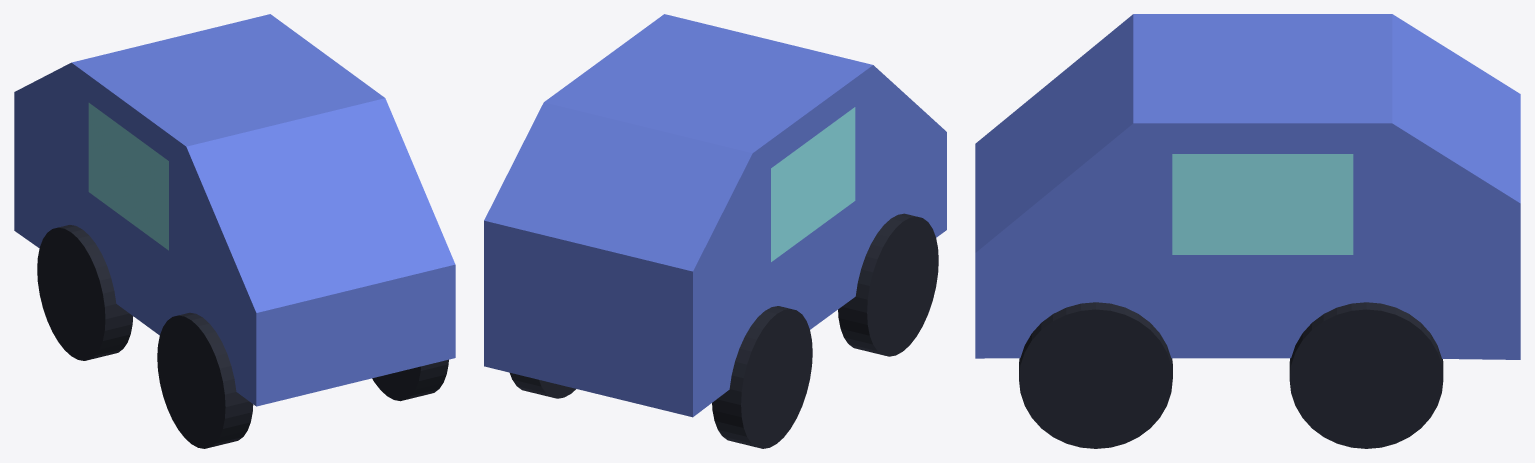
File: Car_02.fbx
3 renders of one model, left to right at view 1: azimuth 30°, elevation 25°; view 2: azimuth 150°, elevation 25°; view 3: azimuth 270°, elevation 25°, orthographic. The views are drawn at different scales.
Parts seen in each view (by area): view 1: Cube, Cylinder.001, Cylinder; view 2: Cube, Cylinder.001, Cylinder; view 3: Cube, Cylinder.
Boxes of the visible parts, bbox=[...] form: Cube: bbox=[14, 14, 455, 406]; Cylinder.001: bbox=[37, 225, 253, 448]; Cylinder: bbox=[372, 359, 448, 401]; Cube: bbox=[484, 14, 946, 417]; Cylinder.001: bbox=[712, 213, 938, 448]; Cylinder: bbox=[510, 373, 575, 398]; Cube: bbox=[975, 14, 1520, 359]; Cylinder: bbox=[1019, 302, 1443, 448].
Size of the model in its own units: 225 by 271 by 421.
